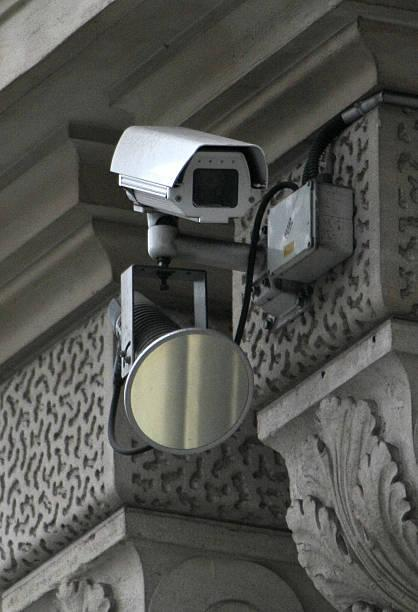camera: (95, 103, 277, 250)
